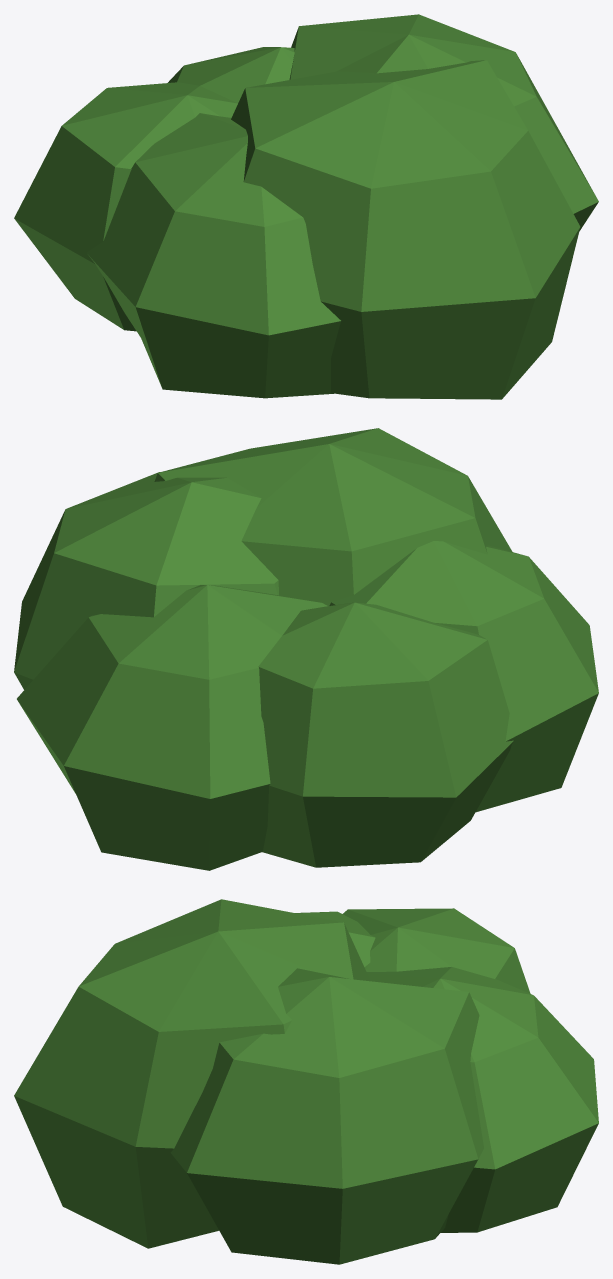
Rendered from bush_b.glb.
3 renders of one model, top to bottom at view 1: azimuth 30°, elevation 25°; view 2: azimuth 150°, elevation 25°; view 3: azimuth 270°, elevation 25°, orthographic. The views are drawn at different scales.
Visible parts, largest first — view 1: bush_b; view 2: bush_b; view 3: bush_b.
Part boxes in pixels (box(x1,y1,x2,y2)): bush_b: box(14, 14, 598, 399); bush_b: box(14, 428, 598, 870); bush_b: box(14, 899, 598, 1264).
Size of the model in its own units: 3.33 by 1.84 by 3.61.
